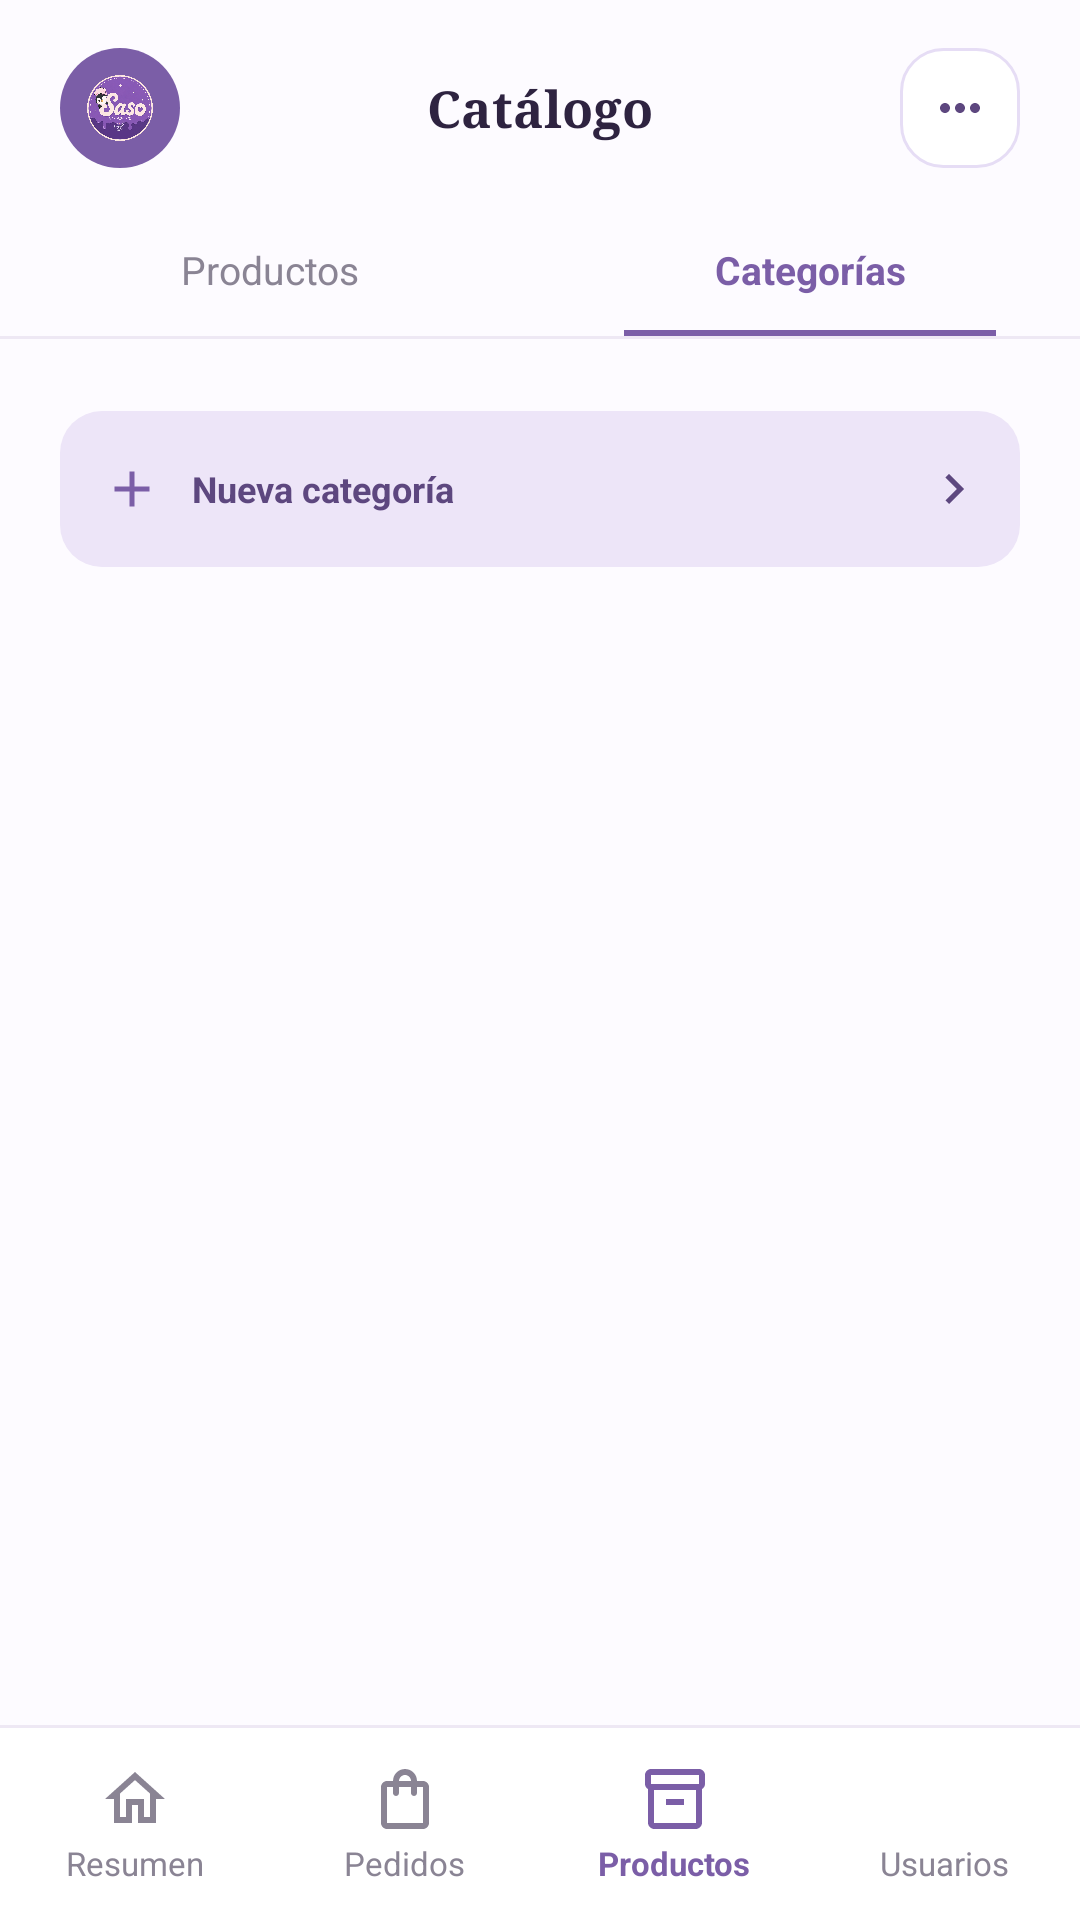

Locate icon controls on the screen. Image size 1080x1920, boxes as (x1, y1, x2, y2).
add: (114, 471, 150, 507)
bag: (381, 1769, 429, 1829)
box: (645, 1769, 705, 1829)
chevron right: (945, 474, 964, 504)
home: (105, 1772, 165, 1823)
more: (940, 103, 980, 113)
